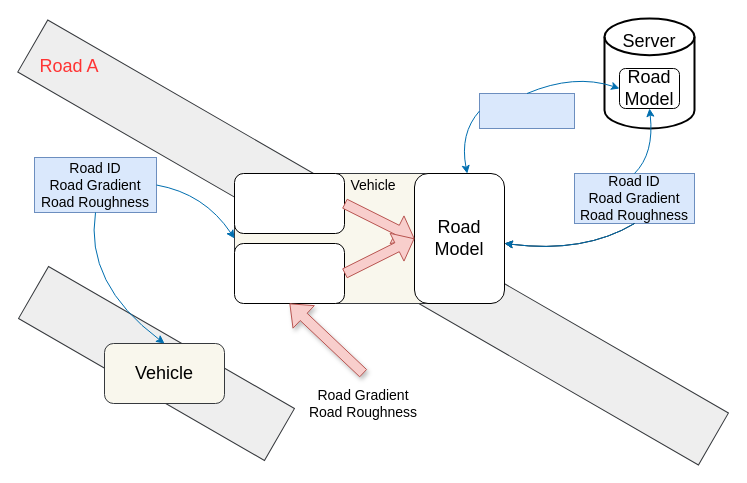
Image size: 747x483. Some labels were removed from this diagram. The shapes that lost their labels are listed below. From the top down, each one's centre as x and y in pixels, then its label:
At [526,110]: "Request Data Road ID".
At [289,203]: "Road Model Road B".
At [289,273]: "Road Model Road A".
